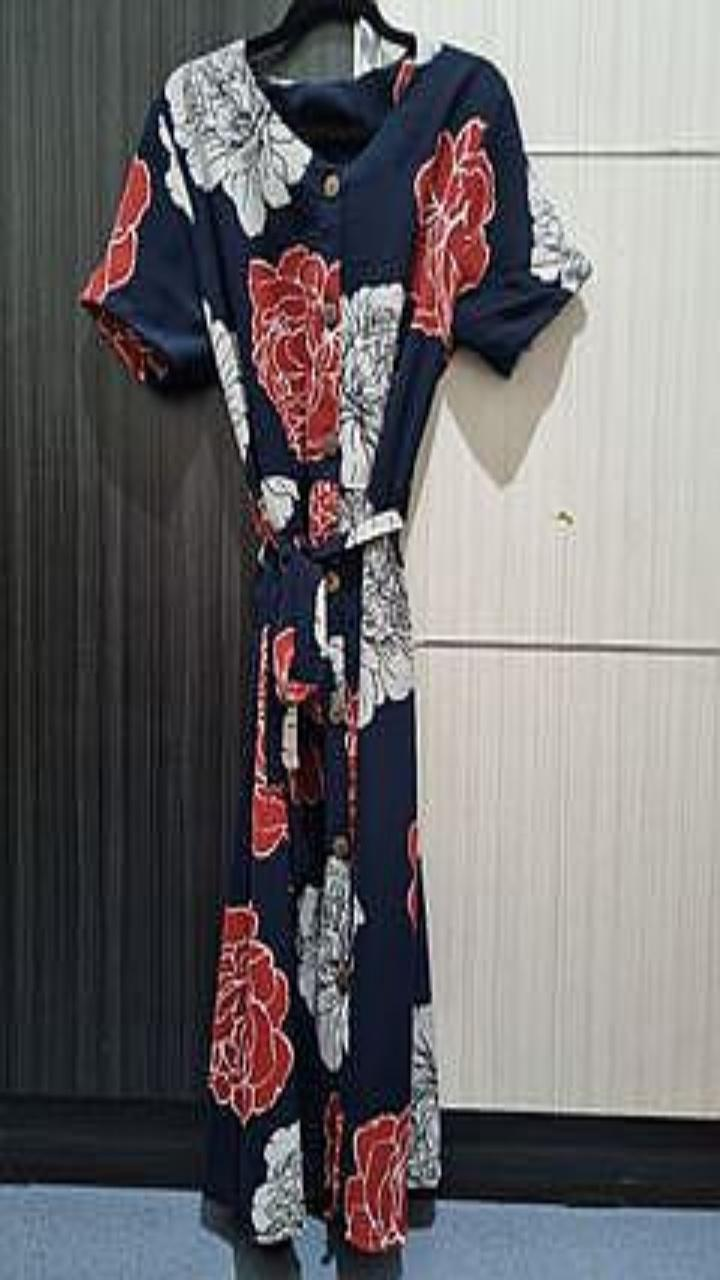Dresses: (79, 38, 590, 1251)
